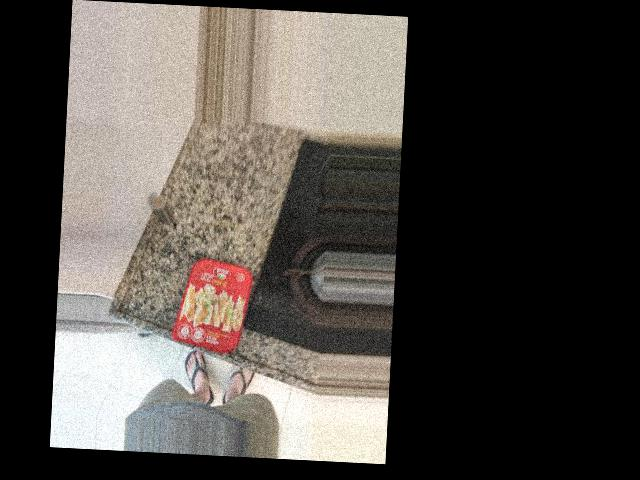cheese: (168, 168, 264, 281)
